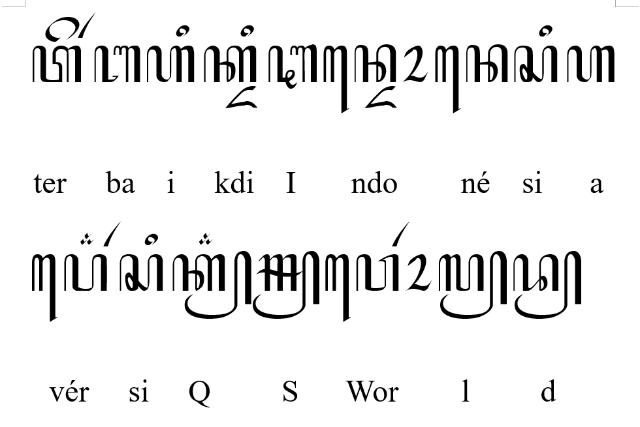-S: (252, 250, 320, 320)
-d: (512, 252, 582, 320)
-k: (172, 250, 252, 320)
-l: (438, 250, 508, 320)
I: (268, 44, 318, 90)
_d: (225, 84, 257, 110), (364, 85, 398, 109)
_r1: (391, 220, 412, 248), (102, 220, 122, 248), (77, 12, 96, 38)
alt: (78, 232, 94, 246), (198, 232, 212, 246)
b: (94, 44, 140, 84)
e: (44, 16, 80, 42)
e1: (323, 44, 351, 114), (324, 254, 352, 324), (435, 44, 461, 114), (32, 253, 58, 323)
h: (146, 44, 194, 84), (566, 44, 614, 84)
i: (175, 24, 189, 38), (240, 24, 254, 38), (538, 23, 552, 36), (144, 233, 158, 246)
k: (202, 45, 258, 83)
n: (354, 43, 396, 83), (466, 44, 508, 84)
o: (404, 254, 432, 292), (402, 46, 428, 82)
p: (64, 253, 108, 293)
s: (120, 254, 164, 293), (514, 46, 558, 84)
t: (32, 45, 82, 83)
w: (354, 254, 400, 293)
